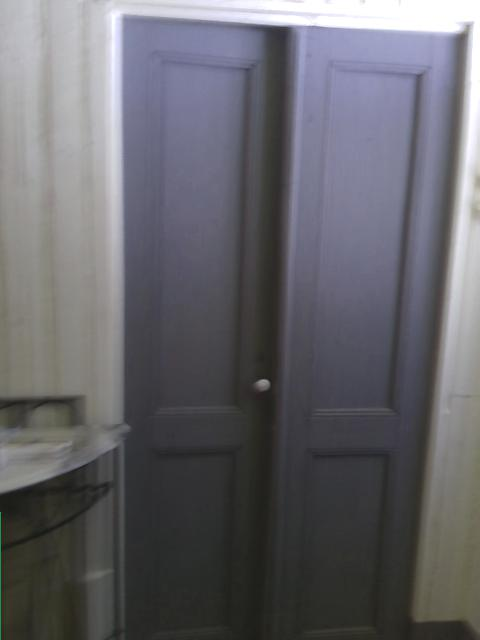closed_door: (110, 6, 475, 639)
